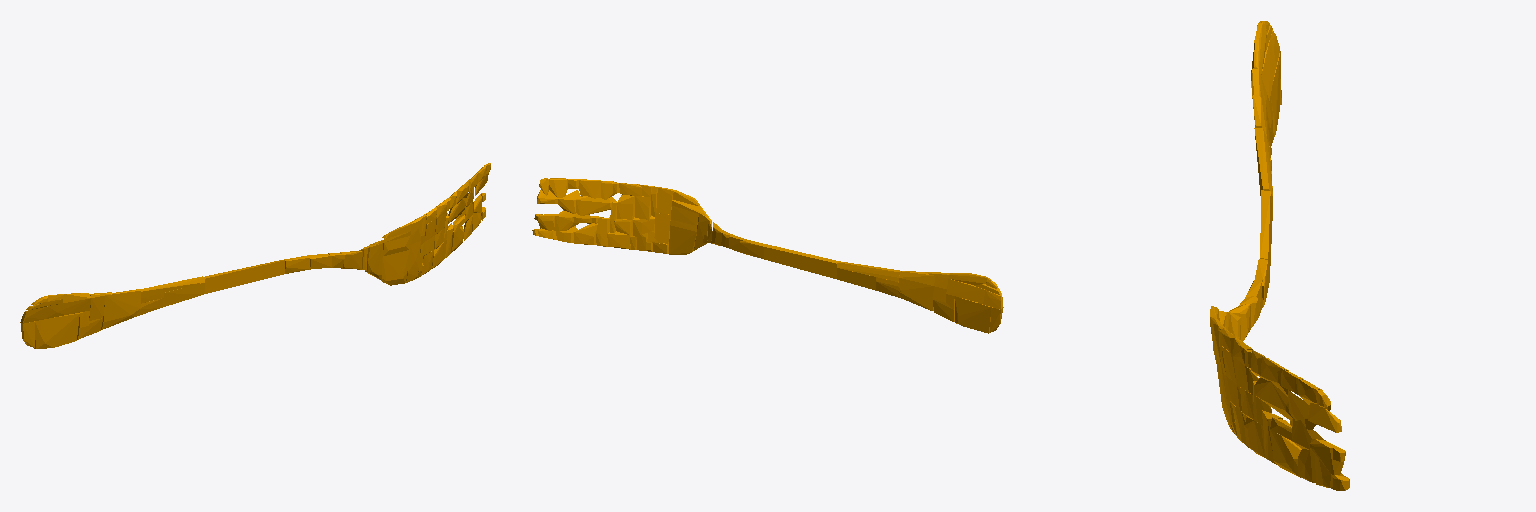
robot.urdf — cutlery-fork:
<?xml version="1.0" ?>
<robot name="cutlery-fork">
  <link name="baseLink">
    <contact>
      <lateral_friction value="1.0"/>
      <inertia_scaling value="3.0"/>
    </contact>
    <inertial>
      <origin rpy="0 0 0" xyz="0.000 0.000 0.000"/>
       <mass value=".1"/>
       <inertia ixx="1" ixy="0.0" ixz="0.0" iyy="1" iyz="0.0" izz="1"/>
    </inertial>
    <visual>
      <origin rpy="0 0 0" xyz="0 0 0"/>
      <geometry>
        <mesh filename="cutlery/cutlery-fork_1.obj" scale="1.0 1.0 1.0"/>
      </geometry>
    </visual>
    <collision>
      <origin rpy="0 0 0" xyz="0 0 0"/>
      <geometry>
        <mesh filename="../collision/cutlery/cutlery-fork_1.obj" scale="1.0 1.0 1.0"/>
      </geometry>
    </collision>
  </link>
</robot>
        

--- Facts derived from the render (not from the file) ---
3 views of the same robot in one strip: view 1: azimuth 30°, elevation 25°; view 2: azimuth 150°, elevation 25°; view 3: azimuth 270°, elevation 25° (orthographic).
Robot: cutlery-fork — 1 links, 0 joints (none); root link baseLink; default pose: all joints at 0.
Links seen in each view (by area): view 1: baseLink; view 2: baseLink; view 3: baseLink.
Boxes of the visible links, box(x1,y1,x2,y2) form: baseLink: box(20, 163, 490, 348); baseLink: box(532, 178, 1003, 333); baseLink: box(1210, 21, 1349, 490).
Size in the robot's own frame: 0.1944 by 0.0287 by 0.0282 metres.
1 mesh visuals loaded from 1 distinct referenced files (1 OBJ).